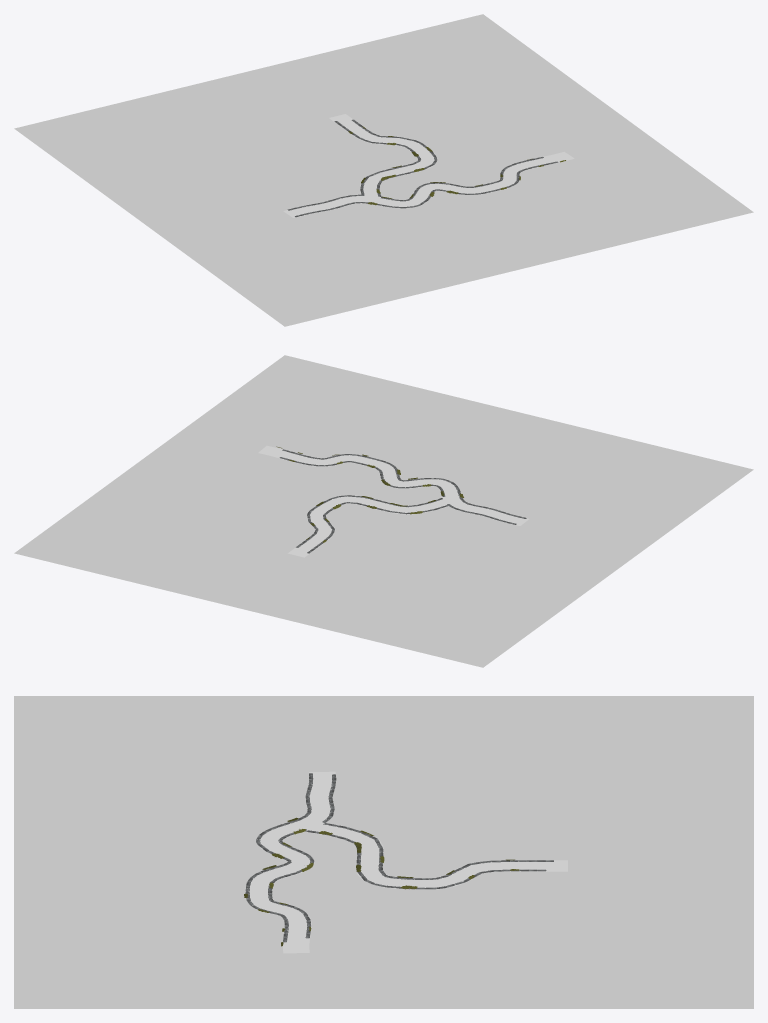
The model's file is Level 5.fbx.
3 views of the same model, one above another, from view 1: azimuth 30°, elevation 25°; view 2: azimuth 150°, elevation 25°; view 3: azimuth 270°, elevation 25° (orthographic). The views are drawn at different scales.
Parts seen in each view (by area): view 1: Ground Test 3.003, Dirt_Ground 1.007, Dirt_Ground 1.008, Stone 1.014, Stone 1.015; view 2: Ground Test 3.003, Dirt_Ground 1.007, Dirt_Ground 1.008, Stone 1.014; view 3: Ground Test 3.003, Dirt_Ground 1.007, Dirt_Ground 1.008, Stone 1.014, Stone 1.015, Stone 1.017, Stone 1.016.
Boxes of the visible parts, x1,y1,x2,y2 form: Ground Test 3.003: (14, 14, 753, 326); Dirt_Ground 1.007: (283, 152, 574, 217); Dirt_Ground 1.008: (329, 114, 437, 196); Stone 1.014: (295, 161, 558, 217); Stone 1.015: (287, 157, 543, 210); Ground Test 3.003: (14, 355, 753, 667); Dirt_Ground 1.007: (258, 446, 528, 525); Dirt_Ground 1.008: (288, 495, 448, 557); Stone 1.014: (282, 449, 526, 518); Ground Test 3.003: (14, 696, 753, 1008); Dirt_Ground 1.007: (247, 771, 335, 953); Dirt_Ground 1.008: (305, 824, 567, 889); Stone 1.014: (245, 773, 313, 942); Stone 1.015: (268, 774, 336, 938); Stone 1.017: (323, 823, 553, 879); Stone 1.016: (305, 830, 546, 889).
Bounding box in the file's own units: 15000 × 77.53 × 15000.
